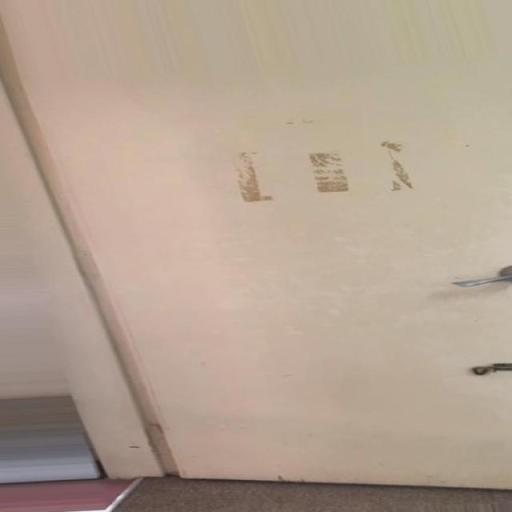door: (1, 0, 509, 490)
